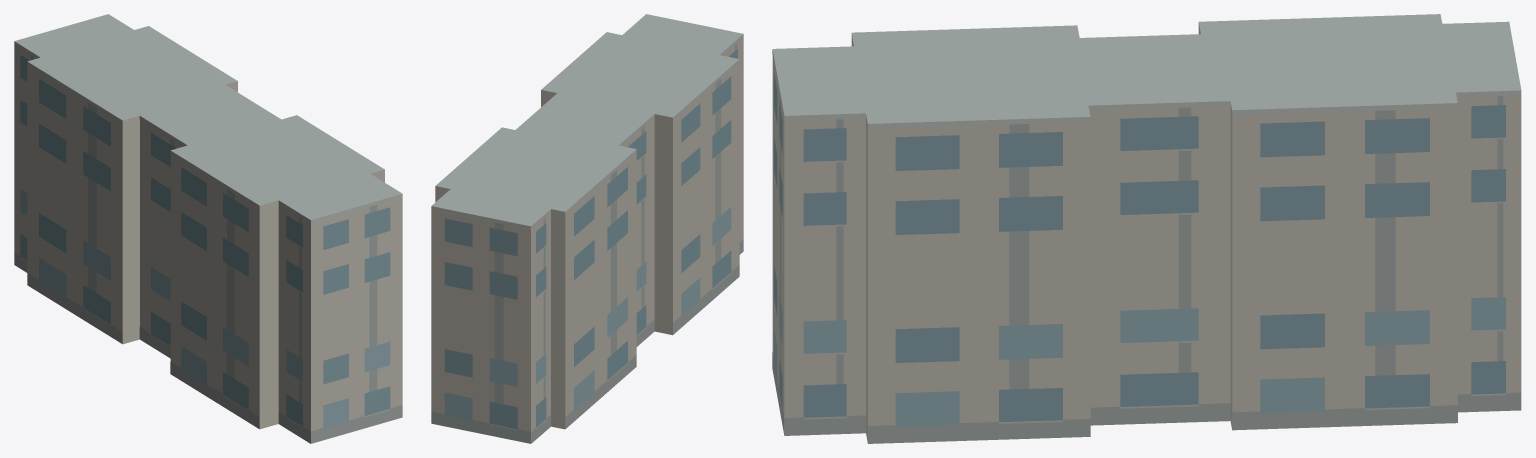
Rendered from survey-upis-32813682.glb.
3 views of the same model, side by side, from view 1: azimuth 30°, elevation 25°; view 2: azimuth 150°, elevation 25°; view 3: azimuth 270°, elevation 25° (orthographic). The views are drawn at different scales.
Parts seen in each view (by area): view 1: survey-upis-32813682.tmp; view 2: survey-upis-32813682.tmp; view 3: survey-upis-32813682.tmp.
Part boxes in pixels (x1,y1,x2,y2): survey-upis-32813682.tmp: (14,14,402,443); survey-upis-32813682.tmp: (431,14,743,443); survey-upis-32813682.tmp: (772,14,1521,443).
Bounding box in the file's own units: 11.25 × 15.25 × 32.36.
